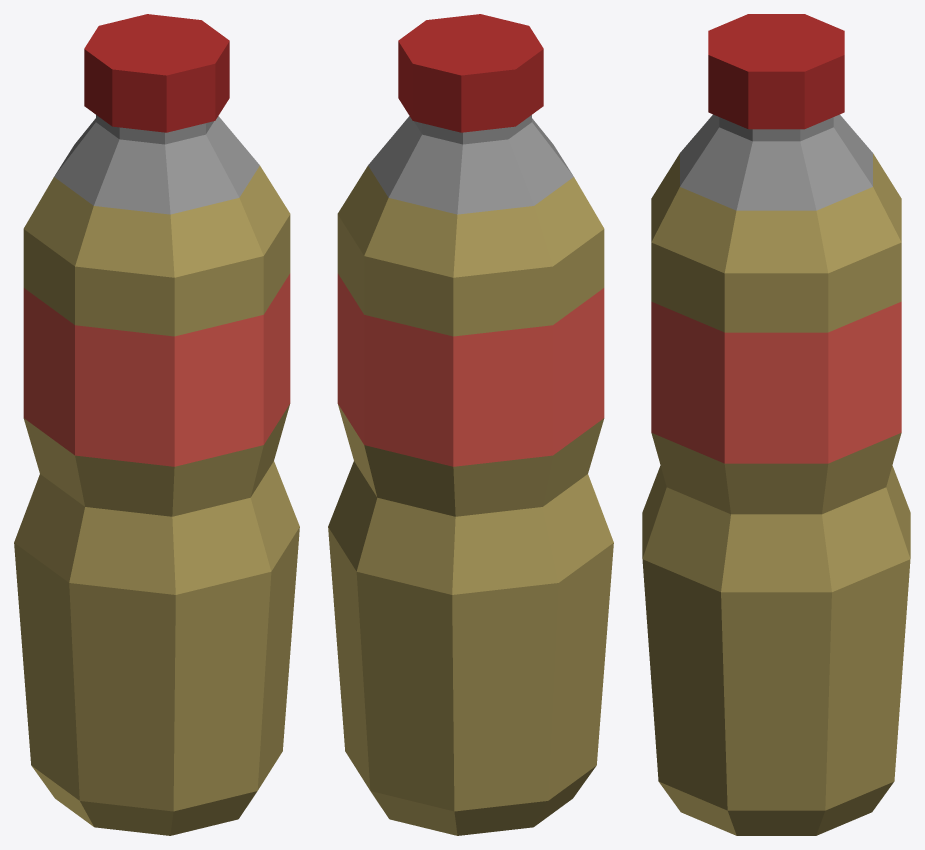
File: Piss Bottle.fbx
The picture shows the model from 3 angles, left to right: view 1: azimuth 30°, elevation 25°; view 2: azimuth 150°, elevation 25°; view 3: azimuth 270°, elevation 25°; orthographic projection.
Parts seen in each view (by area): view 1: Piss Bottle; view 2: Piss Bottle; view 3: Piss Bottle.
Part boxes in pixels (<box>): Piss Bottle: <box>14,14,299,835</box>; Piss Bottle: <box>328,14,613,835</box>; Piss Bottle: <box>642,14,910,835</box>.
Bounding box in the file's own units: 52.06 × 161 × 52.06.
